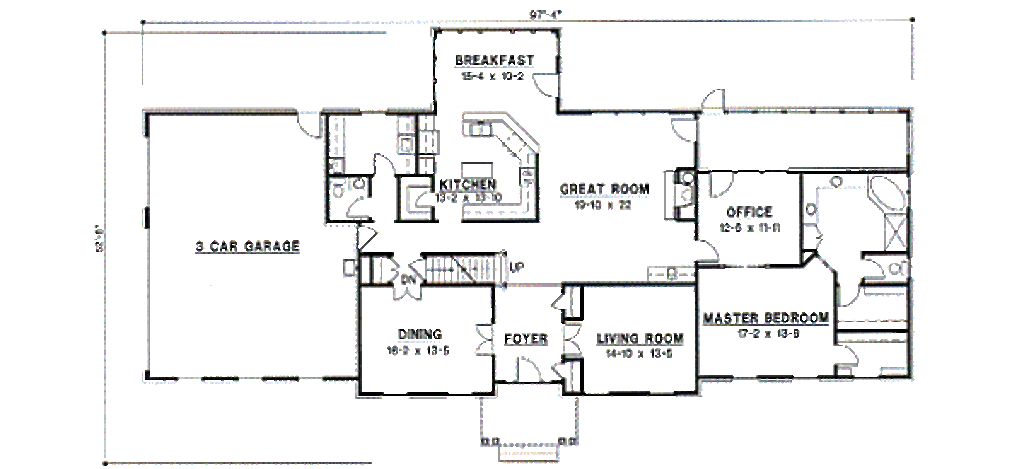door: (290, 108, 324, 143), (704, 165, 735, 201), (466, 319, 495, 357), (691, 236, 721, 270), (530, 70, 559, 102), (668, 113, 696, 145), (698, 86, 726, 117), (830, 340, 862, 367), (517, 351, 540, 385), (837, 279, 863, 309), (859, 253, 886, 281), (369, 152, 394, 176), (346, 196, 369, 221), (548, 294, 569, 311)
kitchen_bar: (461, 109, 544, 166)
stairs: (413, 251, 511, 288)
tub: (866, 169, 908, 217)
